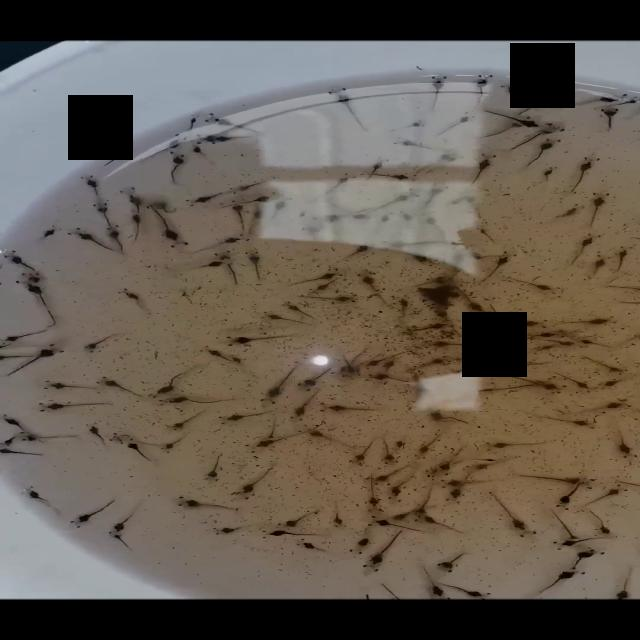shrimp2: (483, 488, 545, 541), (230, 459, 283, 499), (323, 86, 372, 129), (566, 153, 608, 195), (562, 232, 604, 268), (79, 330, 128, 359), (223, 332, 311, 348), (165, 494, 233, 514), (113, 285, 155, 317), (95, 375, 146, 399), (586, 191, 617, 230), (168, 408, 218, 432), (34, 399, 119, 413), (288, 388, 321, 424), (424, 74, 452, 114), (317, 401, 390, 415), (558, 314, 624, 329), (480, 439, 553, 452), (473, 153, 503, 184), (473, 72, 495, 109), (610, 244, 633, 274)
